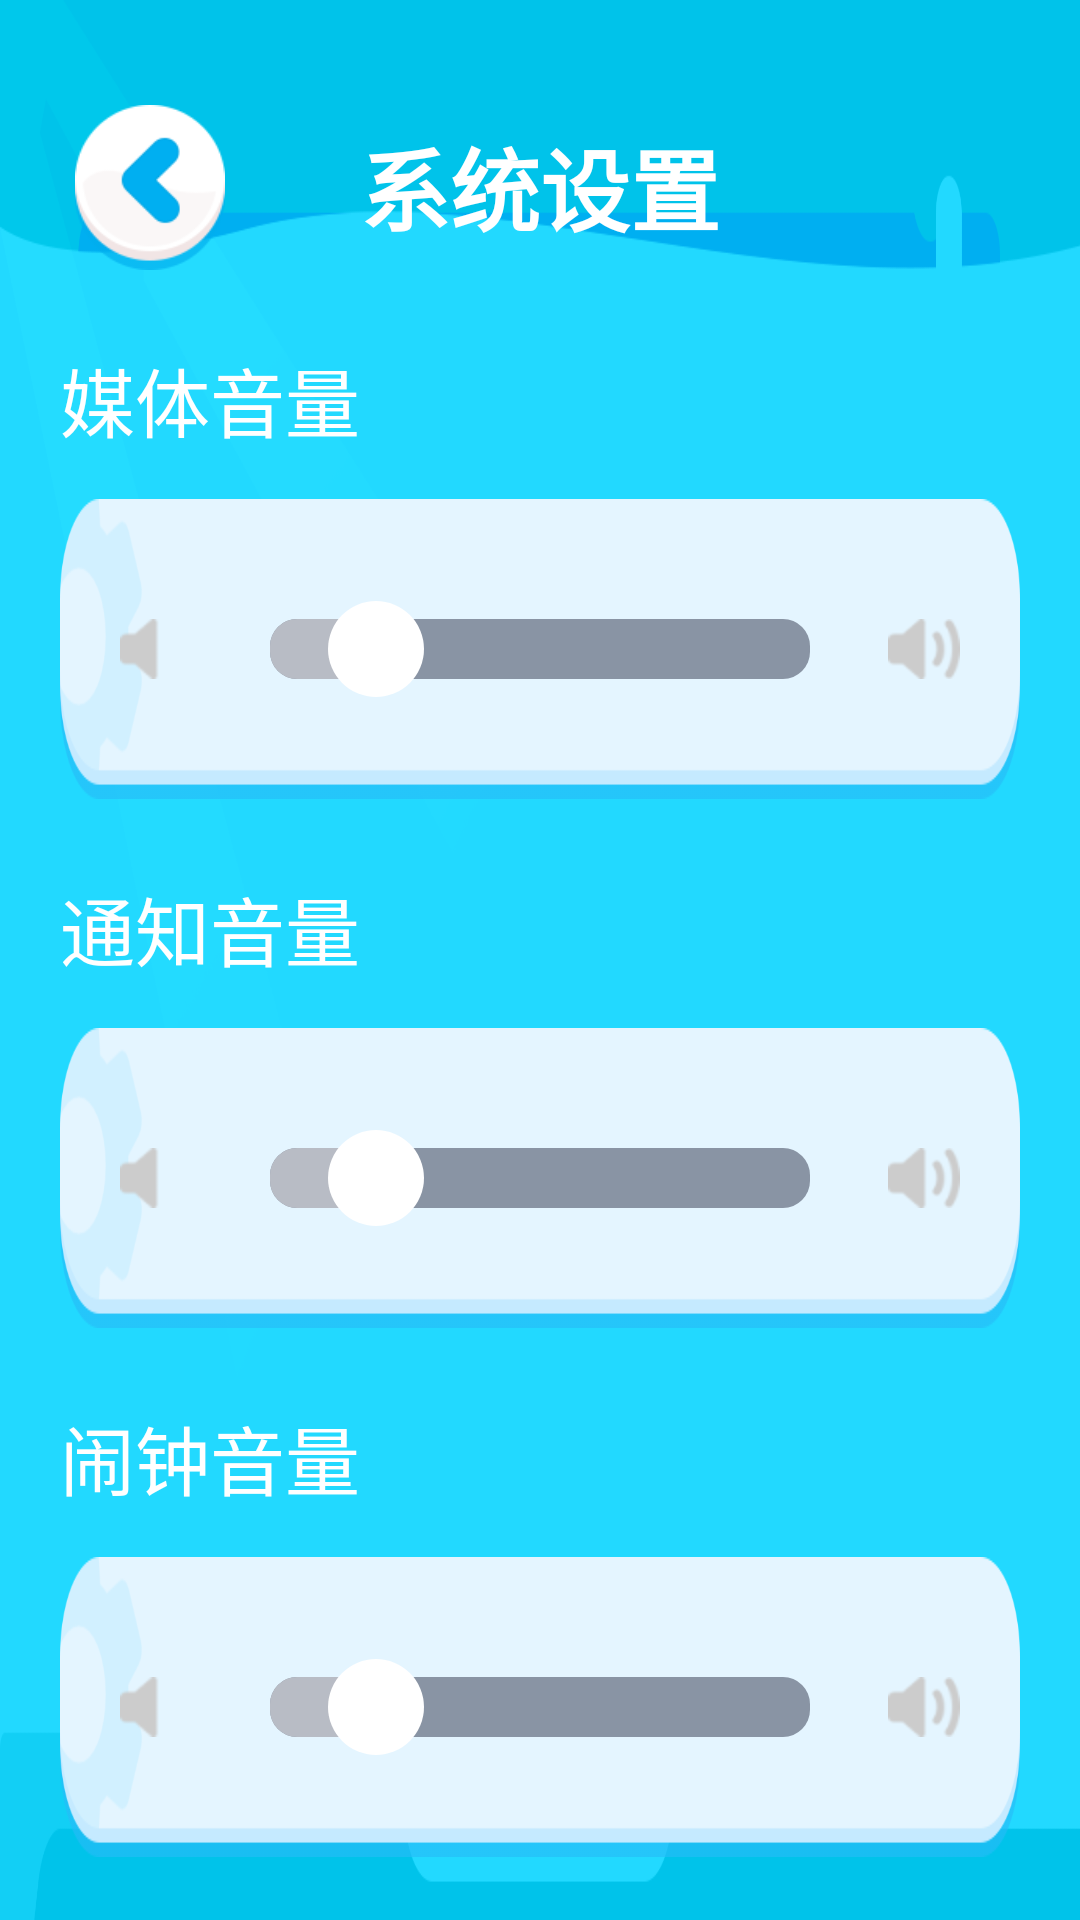

Named icons in this screenshot (1080x1920) and their centers, (x=x, y=y):
audio high: (x=924, y=649), (x=924, y=1178), (x=924, y=1707)
audio off: (x=138, y=649), (x=138, y=1178), (x=138, y=1707)
